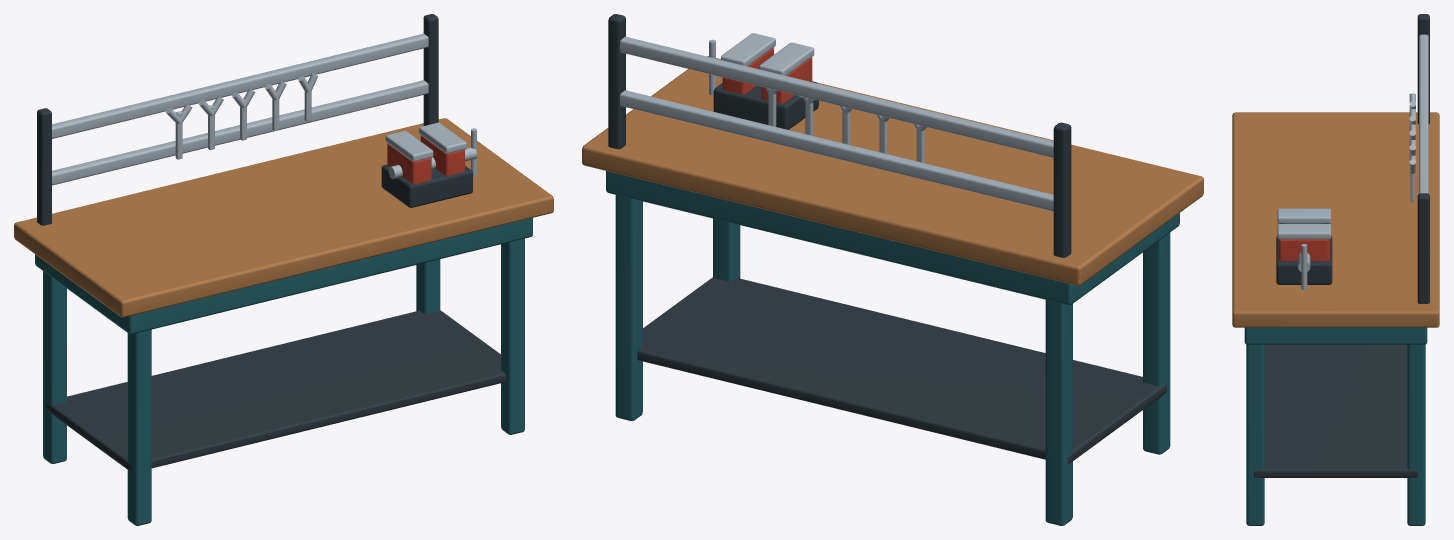
The model's file is 04_tezgah.glb.
The picture shows the model from 3 angles, left to right: view 1: azimuth 30°, elevation 25°; view 2: azimuth 150°, elevation 25°; view 3: azimuth 270°, elevation 25°; orthographic projection. The views are drawn at different scales.
Parts seen in each view (by area): view 1: 04_tezgah__frame; view 2: 04_tezgah__frame; view 3: 04_tezgah__frame.
Boxes of the visible parts, x1,y1,x2,y2 form: 04_tezgah__frame: (14,14,553,525); 04_tezgah__frame: (582,14,1203,525); 04_tezgah__frame: (1232,14,1439,525).
Bounding box in the file's own units: 1.95 × 1.5 × 0.85.
